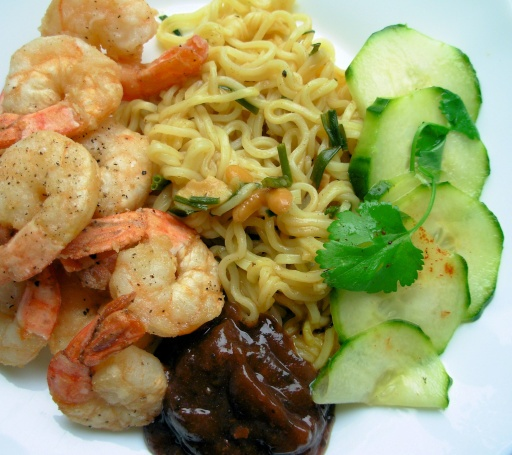background: (0, 0, 404, 323)
